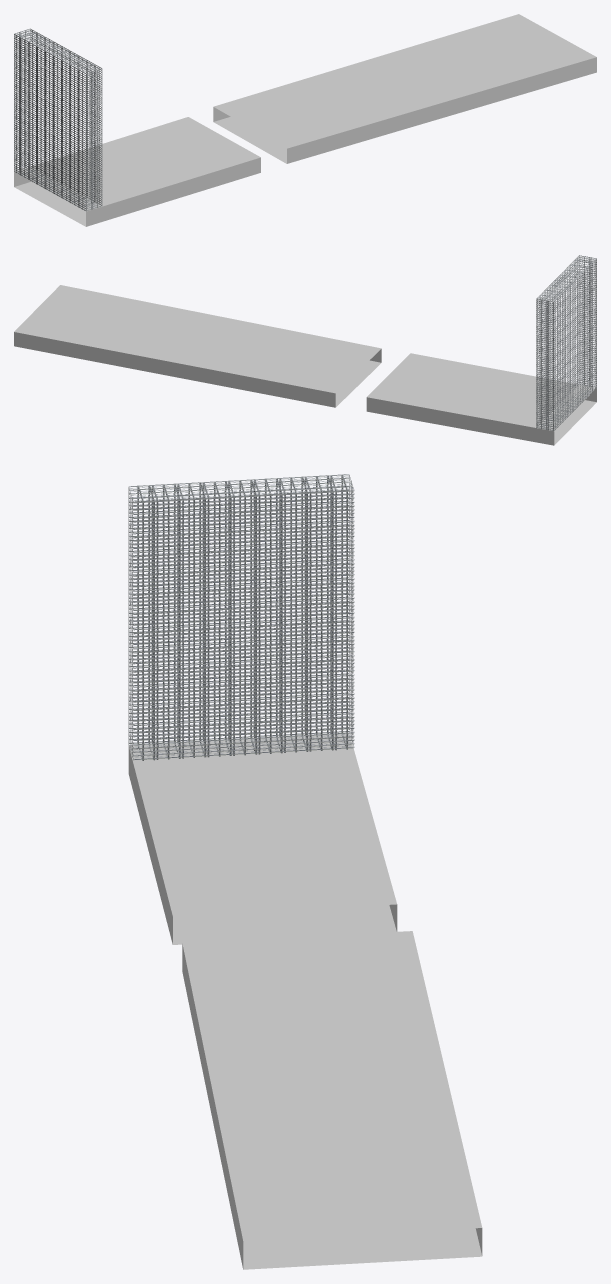
The model's file is Steg.dae.
3 views of the same model, one above another, from view 1: azimuth 30°, elevation 25°; view 2: azimuth 150°, elevation 25°; view 3: azimuth 270°, elevation 25° (orthographic). The views are drawn at different scales.
Visible parts, largest first — view 1: Komponente (×3); view 2: Komponente (×3); view 3: Komponente (×3).
Boxes of the visible parts, left/top/right/bottom form: Komponente (×3): left=14, top=14, right=596, bottom=226; Komponente (×3): left=14, top=255, right=596, bottom=445; Komponente (×3): left=128, top=474, right=482, bottom=1269.
Size of the model in its own units: 1854 by 546 by 490.
